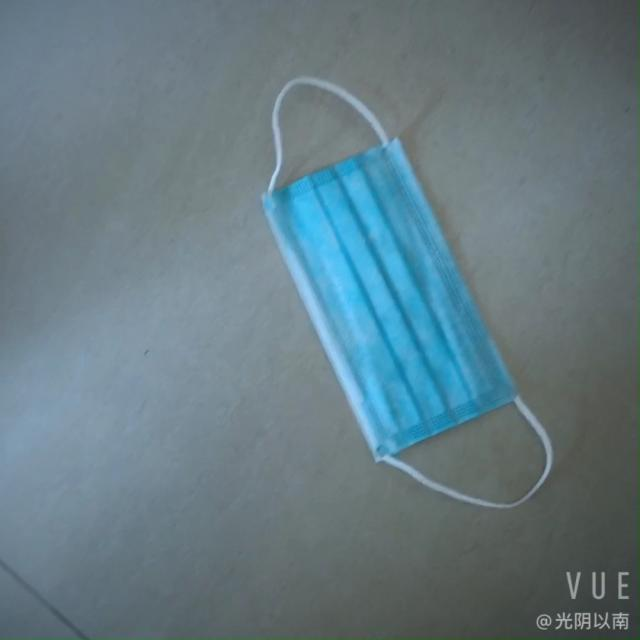non-organic waste: (252, 138, 523, 492)
